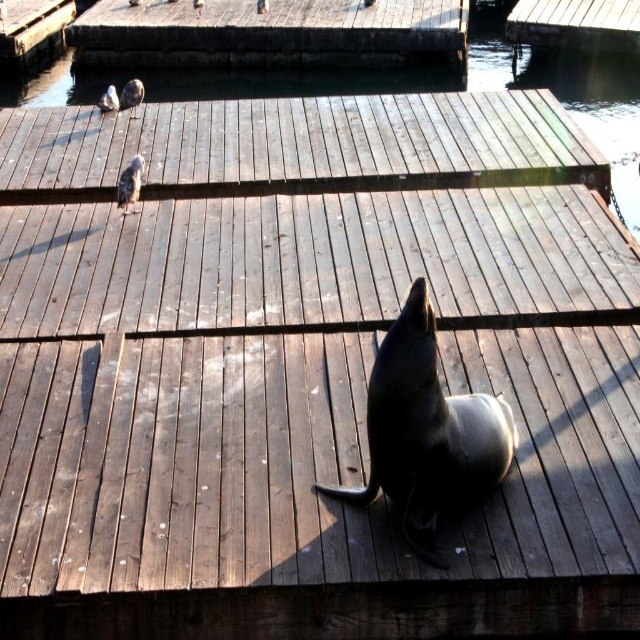Harbor seal: (336, 271, 514, 547)
